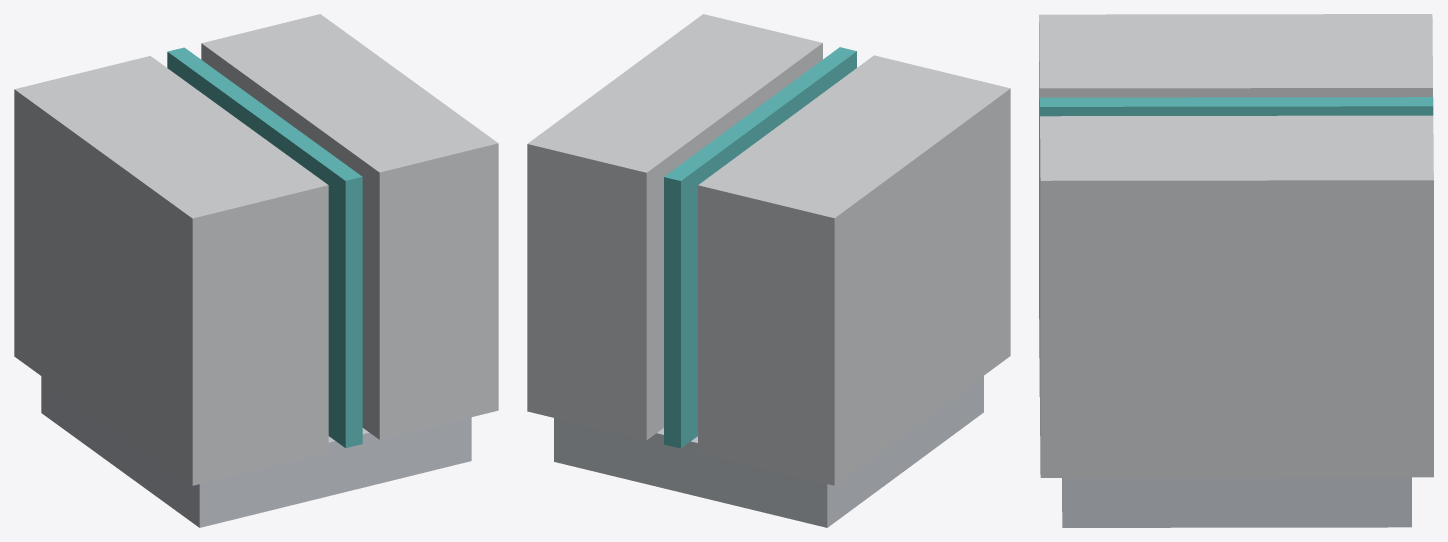
The picture shows the model from 3 angles, left to right: view 1: azimuth 30°, elevation 25°; view 2: azimuth 150°, elevation 25°; view 3: azimuth 270°, elevation 25°; orthographic projection. The views are drawn at different scales.
Parts seen in each view (by area): view 1: Suggested unit 1, Suggested unit 3.004, Demo / Synthetic Dataset — basement, Suggested unit 1.001, Suggested unit 1.002, Suggested unit 1.003, Suggested unit 1.004, Suggested unit 2.004, Suggested unit 3.002, Suggested unit 3, Suggested unit 3.003, Suggested unit 3.001 (+4 smaller); view 2: Suggested unit 1, Suggested unit 3.004, Demo / Synthetic Dataset — basement, Suggested unit 1.002, Suggested unit 1.003, Suggested unit 1.001, Suggested unit 1.004, Suggested unit 2.004, Suggested unit 3.001, Suggested unit 3, Suggested unit 3.002, Suggested unit 3.003 (+4 smaller); view 3: Suggested unit 3.004, Suggested unit 1, Suggested unit 3.001, Suggested unit 3.003, Suggested unit 3.002, Suggested unit 3, Demo / Synthetic Dataset — basement, Suggested unit 2.004.
Part boxes in pixels (bbox=[...]): Suggested unit 1: bbox=[14, 56, 328, 271]; Suggested unit 3.004: bbox=[201, 14, 498, 225]; Demo / Synthetic Dataset — basement: bbox=[41, 376, 471, 527]; Suggested unit 1.001: bbox=[14, 196, 328, 378]; Suggested unit 1.002: bbox=[14, 143, 328, 325]; Suggested unit 1.003: bbox=[14, 250, 328, 432]; Suggested unit 1.004: bbox=[14, 303, 328, 485]; Suggested unit 2.004: bbox=[167, 47, 362, 234]; Suggested unit 3.002: bbox=[362, 357, 498, 439]; Suggested unit 3: bbox=[362, 250, 498, 332]; Suggested unit 3.003: bbox=[362, 303, 498, 386]; Suggested unit 3.001: bbox=[362, 197, 498, 279]; Suggested unit 1: bbox=[698, 55, 1010, 271]; Suggested unit 3.004: bbox=[527, 14, 822, 226]; Demo / Synthetic Dataset — basement: bbox=[554, 376, 983, 527]; Suggested unit 1.002: bbox=[698, 142, 1010, 325]; Suggested unit 1.003: bbox=[698, 249, 1010, 432]; Suggested unit 1.001: bbox=[698, 196, 1010, 378]; Suggested unit 1.004: bbox=[698, 303, 1010, 485]; Suggested unit 2.004: bbox=[664, 47, 856, 234]; Suggested unit 3.001: bbox=[527, 197, 663, 279]; Suggested unit 3: bbox=[527, 251, 663, 333]; Suggested unit 3.002: bbox=[527, 358, 663, 440]; Suggested unit 3.003: bbox=[527, 304, 663, 386]; Suggested unit 3.004: bbox=[1040, 115, 1433, 240]; Suggested unit 1: bbox=[1039, 14, 1432, 120]; Suggested unit 3.001: bbox=[1040, 198, 1433, 299]; Suggested unit 3.003: bbox=[1040, 317, 1433, 418]; Suggested unit 3.002: bbox=[1040, 376, 1433, 477]; Suggested unit 3: bbox=[1040, 258, 1433, 358]; Demo / Synthetic Dataset — basement: bbox=[1062, 477, 1411, 527]; Suggested unit 2.004: bbox=[1039, 97, 1433, 158].
Bounding box in the file's own units: 18.07 × 18 × 18.07.
